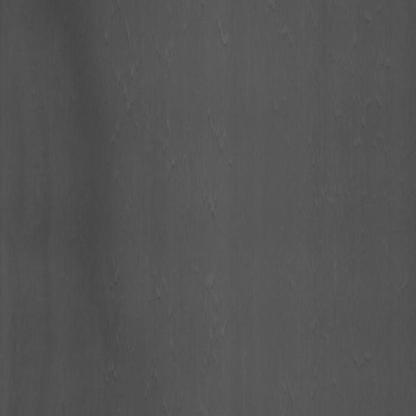silk_spot: (127, 122, 233, 226), (105, 29, 167, 118)
